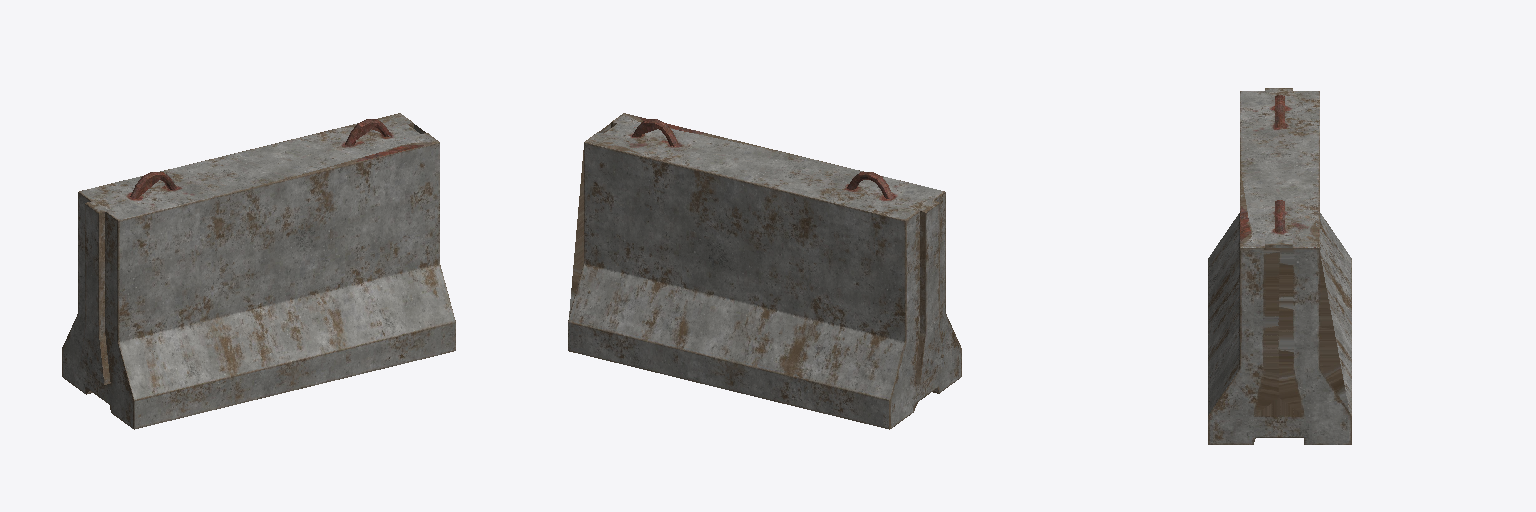
3 renders of one model, left to right at view 1: azimuth 30°, elevation 25°; view 2: azimuth 150°, elevation 25°; view 3: azimuth 270°, elevation 25°, orthographic.
Parts seen in each view (by area): view 1: Concrete_Barrier; view 2: Concrete_Barrier; view 3: Concrete_Barrier.
Boxes of the visible parts, <box> form: Concrete_Barrier: <box>62,113,455,429</box>; Concrete_Barrier: <box>568,113,961,429</box>; Concrete_Barrier: <box>1208,88,1351,444</box>.
Bounding box in the file's own units: 2 × 1.27 × 0.7609.
Materials: 1 (1 with a texture image).